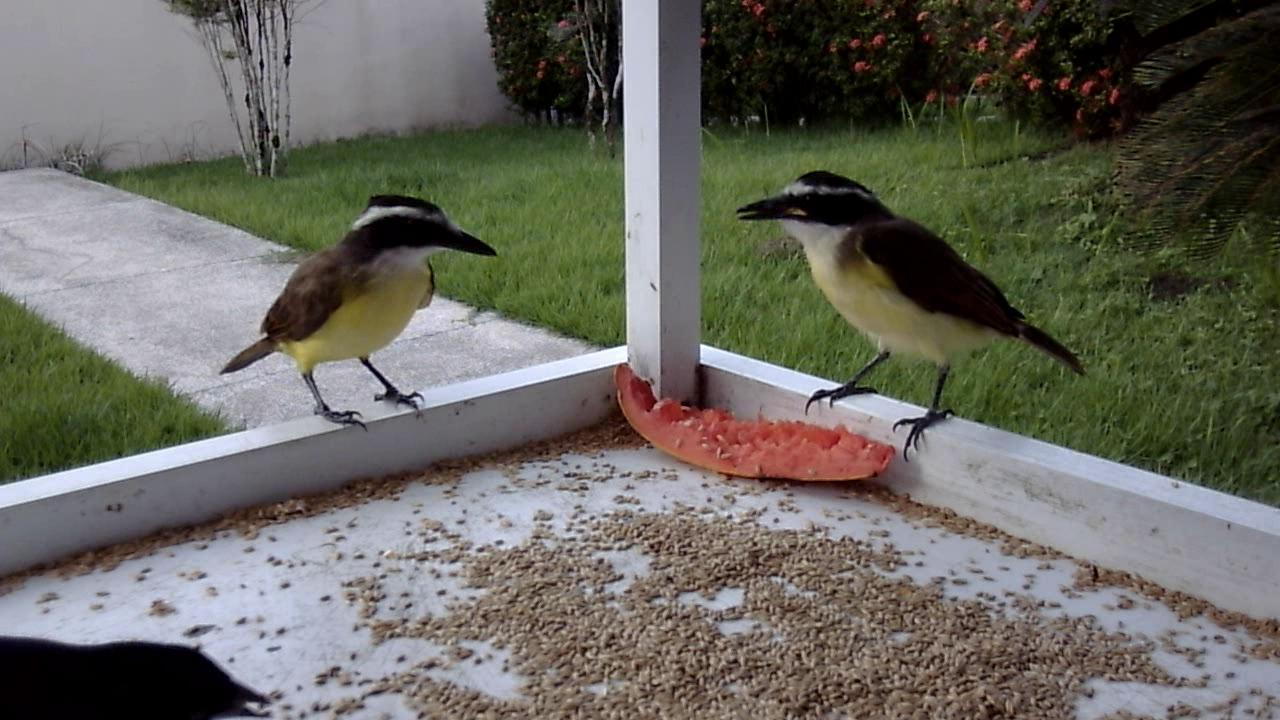bem_te_vi: (728, 158, 1090, 475), (210, 185, 505, 447)
